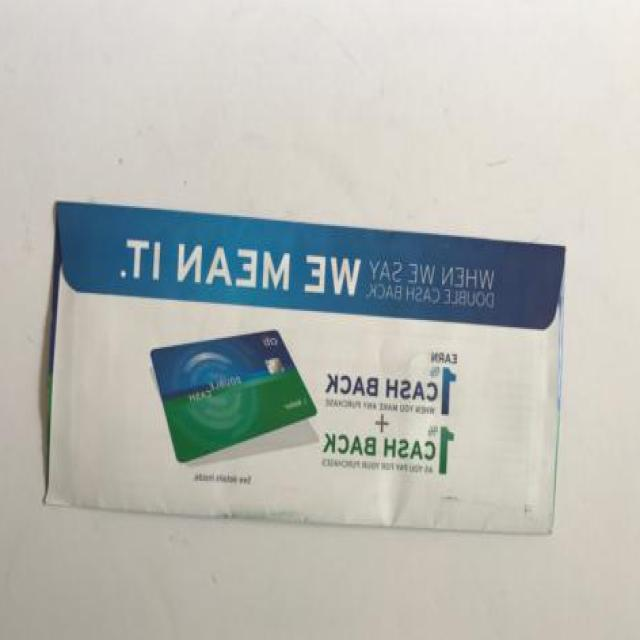kertas: (42, 199, 570, 536)
